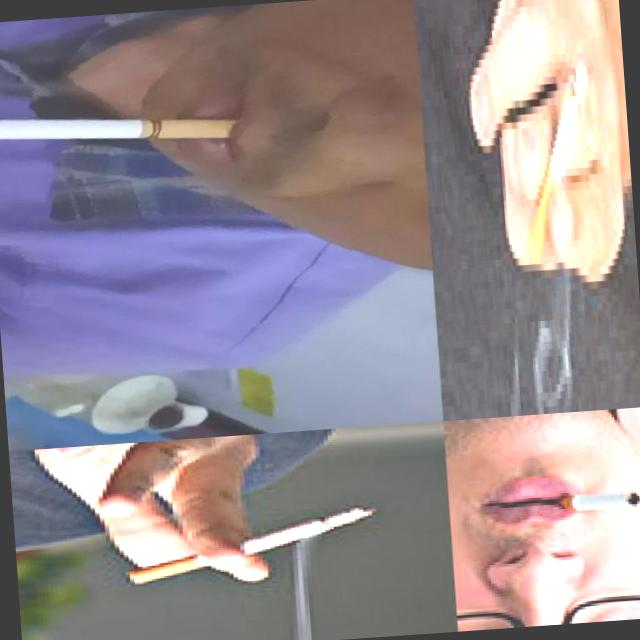smoke: (121, 504, 381, 586), (516, 63, 600, 266), (0, 95, 236, 155), (563, 489, 640, 517)
